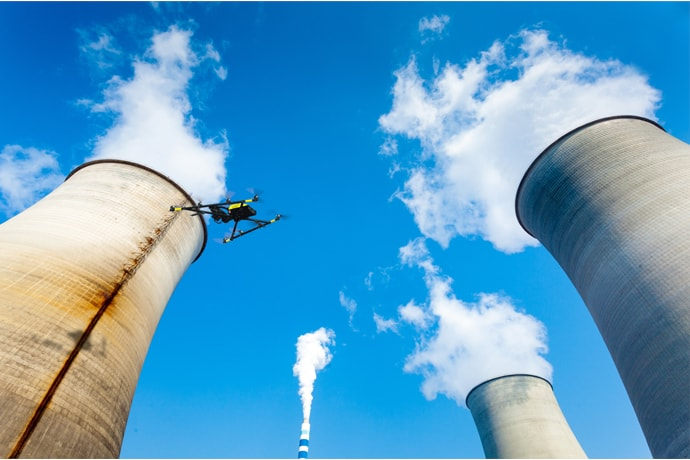drone: (161, 186, 300, 248)
